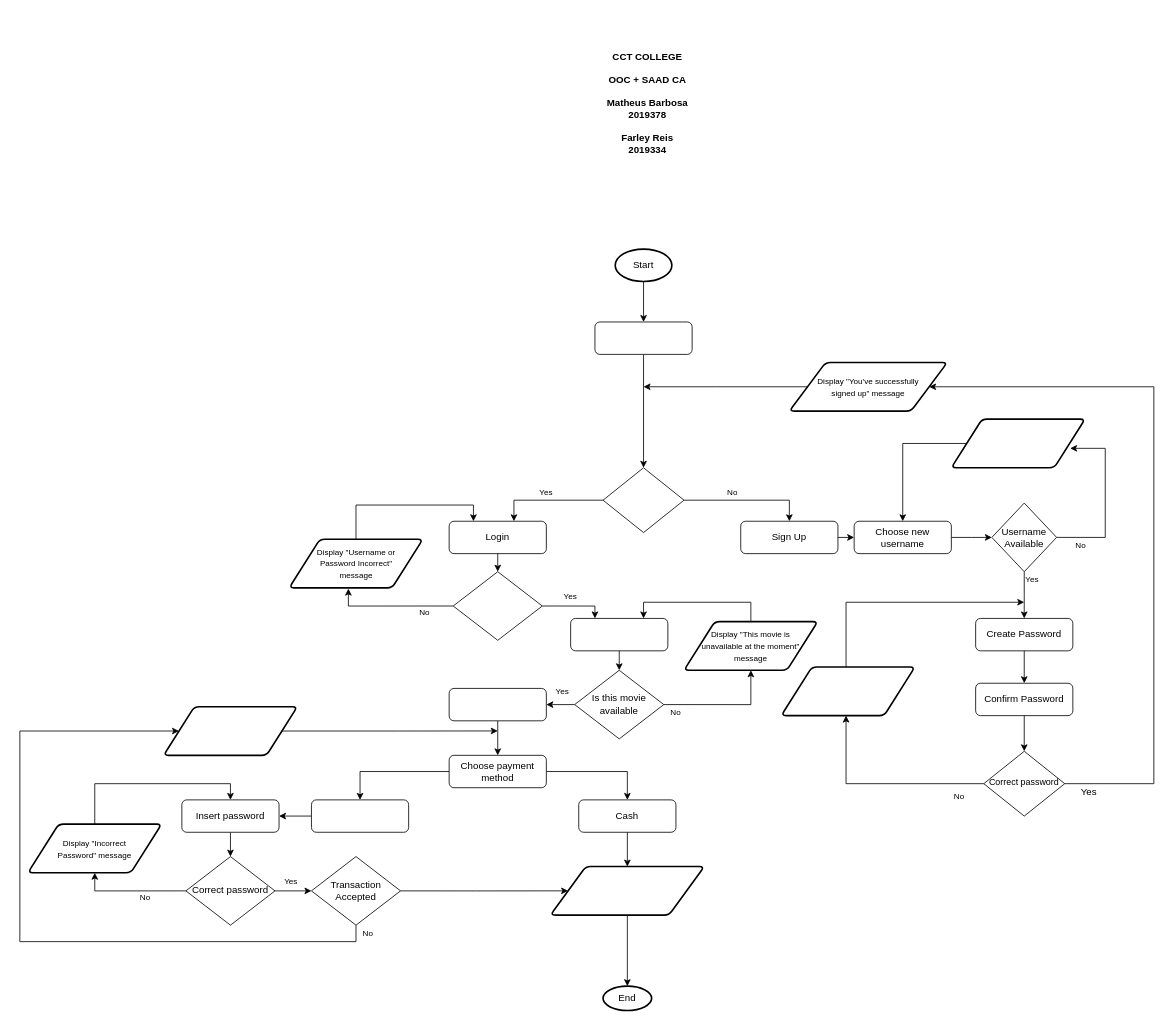
Image size: 1175x1025. Some labels were removed from this diagram. The centre of each missing label's shape, as x and y in pixels:
Check-out: (497,704)
Choose Movie: (619,634)
Correct Login Info: (497,605)
Credit Card: (360,815)
Display "Password didn't match" message: (847,691)
Display "Payment Succeed - Enjoy the movie" message: (627,890)
Display "Transaction declined" message: (230,731)
Display "username unavailable" message: (1017,443)
Registered User: (643,500)
Rent a DVD: (643,337)
